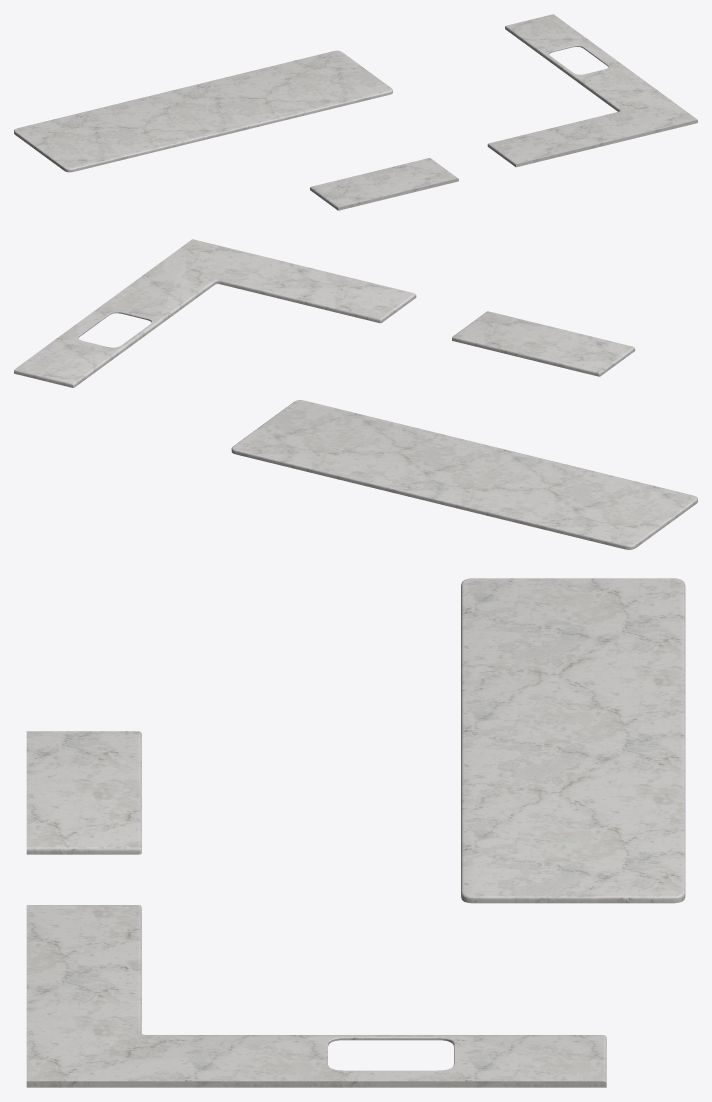
The model's file is 1860_kitchen_Countertops_QuartzCalacattaKarmelo.gltf.
3 views of the same model, one above another, from view 1: azimuth 30°, elevation 25°; view 2: azimuth 150°, elevation 25°; view 3: azimuth 270°, elevation 25° (orthographic). The views are drawn at different scales.
Visible parts, largest first — view 1: Line18738; view 2: Line18738; view 3: Line18738.
Part boxes in pixels (<box>): Line18738: <box>14,14,697,210</box>; Line18738: <box>14,239,697,549</box>; Line18738: <box>26,578,685,1087</box>.
Bounding box in the file's own units: 8.6 × 0.09 × 4.7.
1 material, 1 textured.
